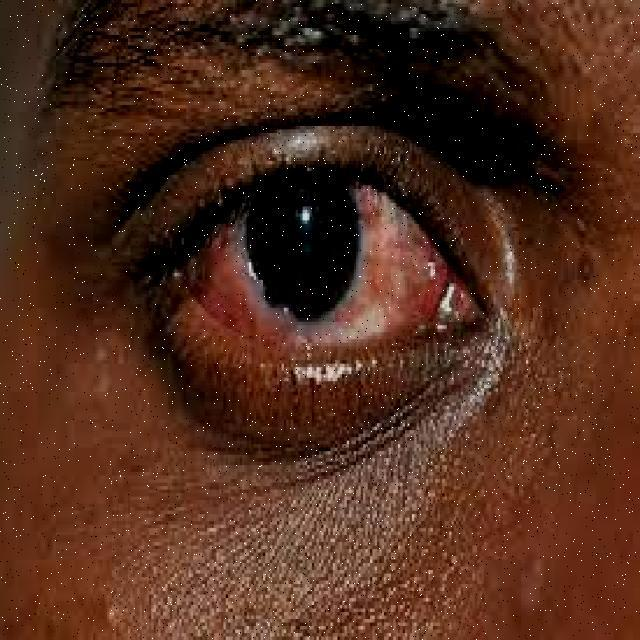Conjunctivitis: (166, 157, 494, 358)
